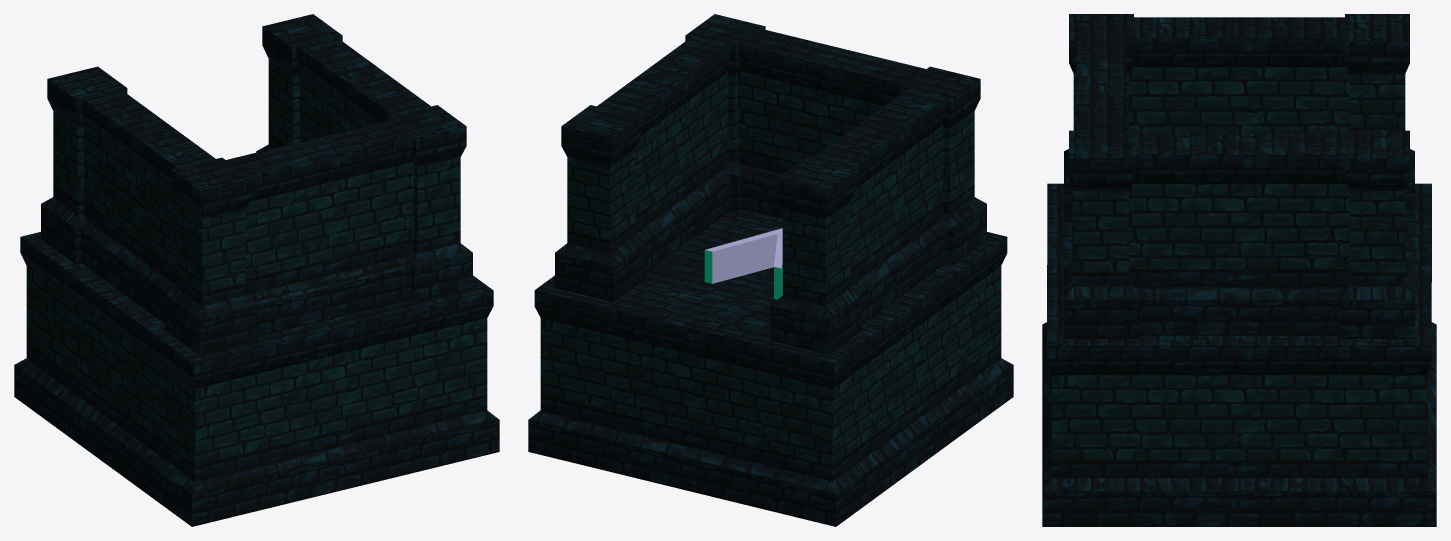
The model's file is debug-deadend.glb.
The picture shows the model from 3 angles, left to right: view 1: azimuth 30°, elevation 25°; view 2: azimuth 150°, elevation 25°; view 3: azimuth 270°, elevation 25°; orthographic projection. The views are drawn at different scales.
Visible parts, largest first — view 1: mergedBlocks(Clone); view 2: mergedBlocks(Clone); view 3: mergedBlocks(Clone).
Part boxes in pixels (box(x1,y1,x2,y2)): mergedBlocks(Clone): box(14, 14, 499, 526); mergedBlocks(Clone): box(528, 14, 1013, 526); mergedBlocks(Clone): box(1042, 14, 1436, 526).
Bounding box in the file's own units: 2 × 2 × 2.
4 materials, 2 textured.
